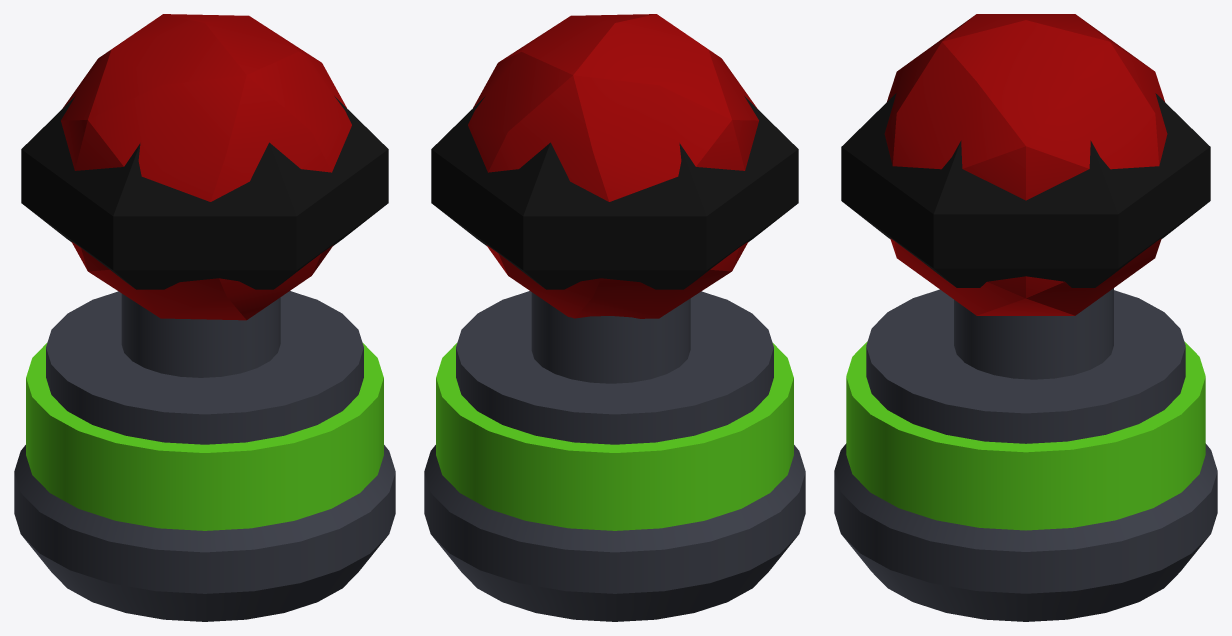
Rendered from tower_bloodstone.obj.
3 renders of one model, left to right at view 1: azimuth 30°, elevation 25°; view 2: azimuth 150°, elevation 25°; view 3: azimuth 270°, elevation 25°, orthographic.
Parts seen in each view (by area): view 1: mergedBlocks; view 2: mergedBlocks; view 3: mergedBlocks.
Boxes of the visible parts, <box> form: mergedBlocks: <box>14,14,395,621</box>; mergedBlocks: <box>424,14,805,621</box>; mergedBlocks: <box>834,14,1217,621</box>.
Bounding box in the file's own units: 0.96 × 1.48 × 0.96.
